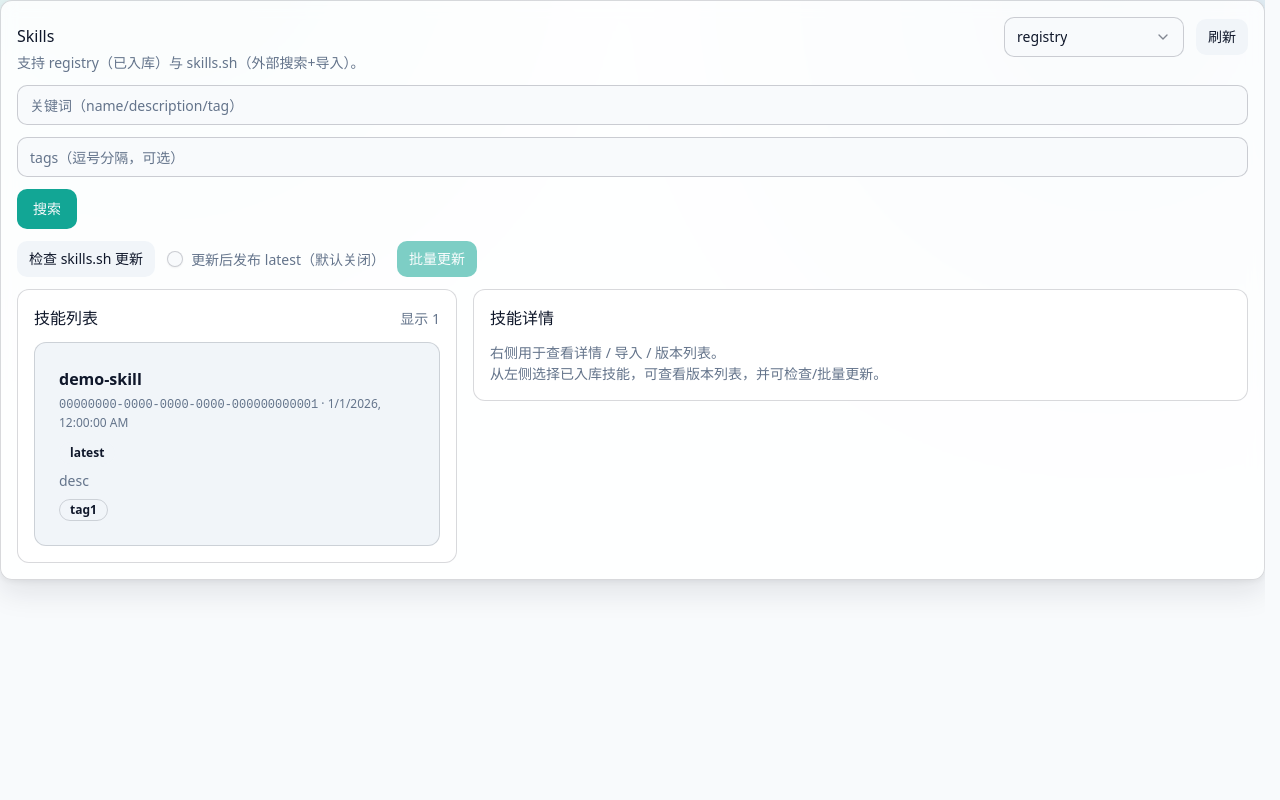
it: SkillsSection › opens detail panel when clicking an item
Expected: the text "demo-skill" is shown, [59,368,142,390]
Click the button "demo-skill" at coordinates (100, 379), box [59,368,381,521]
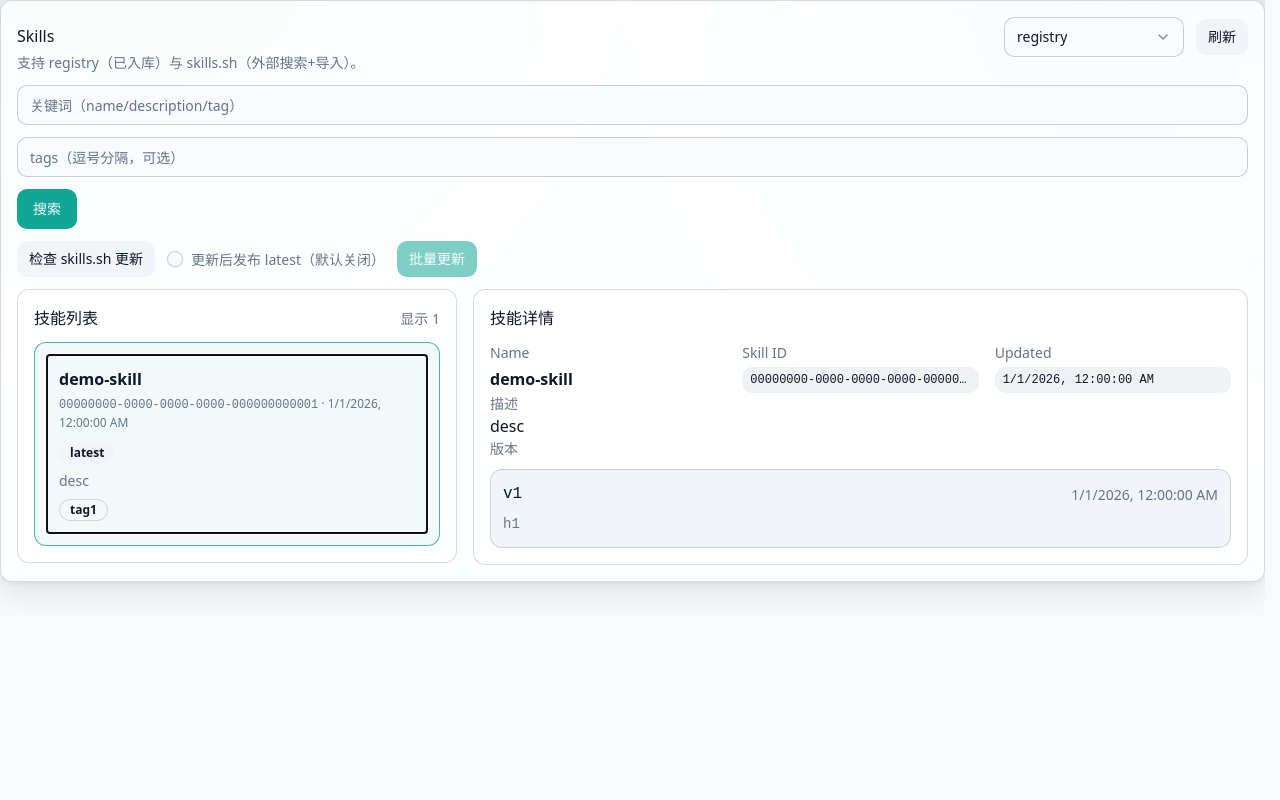
Result: the text "Skill ID" is shown at [742,343,787,362]
Result: the text "h1" is shown at [503,516,520,532]
